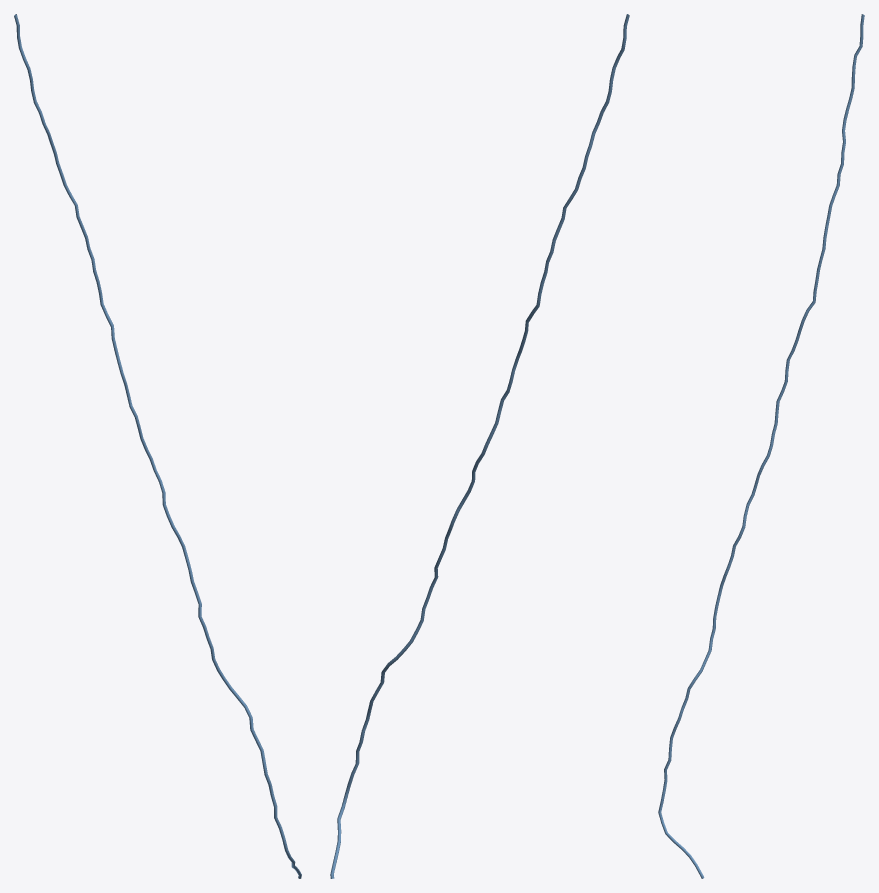
Rendered from sweep281.fbx.
The picture shows the model from 3 angles, left to right: view 1: azimuth 30°, elevation 25°; view 2: azimuth 210°, elevation 25°; view 3: azimuth 270°, elevation 25°; orthographic projection. The views are drawn at different scales.
Parts seen in each view (by area): view 1: sweep281; view 2: sweep281; view 3: sweep281.
Boxes of the visible parts, x1,y1,x2,y2 form: sweep281: (14,14,301,878); sweep281: (330,14,629,878); sweep281: (658,14,864,878).
Size of the model in its own units: 1.33 by 5.39 by 1.3.
